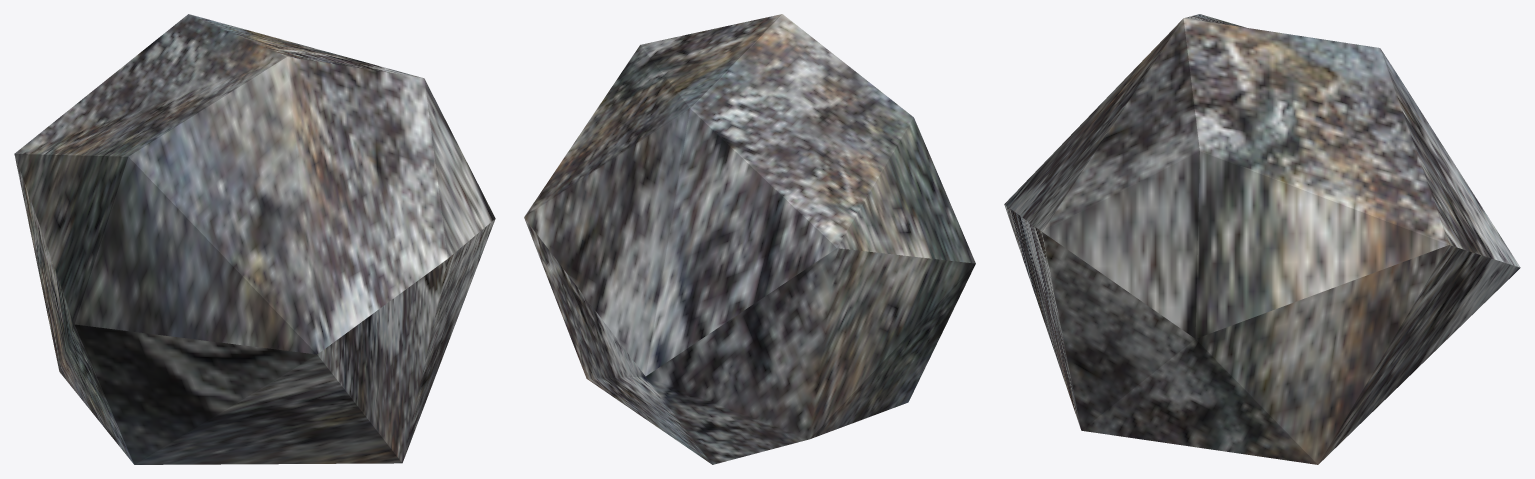
The model's file is items__boulder.glb.
3 renders of one model, left to right at view 1: azimuth 30°, elevation 25°; view 2: azimuth 150°, elevation 25°; view 3: azimuth 270°, elevation 25°, orthographic. The views are drawn at different scales.
Parts seen in each view (by area): view 1: boulder2; view 2: boulder2; view 3: boulder2.
Boxes of the visible parts, left/top/right/bottom form: boulder2: left=14, top=14, right=495, bottom=464; boulder2: left=524, top=14, right=975, bottom=464; boulder2: left=1004, top=14, right=1520, bottom=464.
Size of the model in its own units: 5.04 by 4.94 by 5.34.
Materials: 1 (1 with a texture image).
